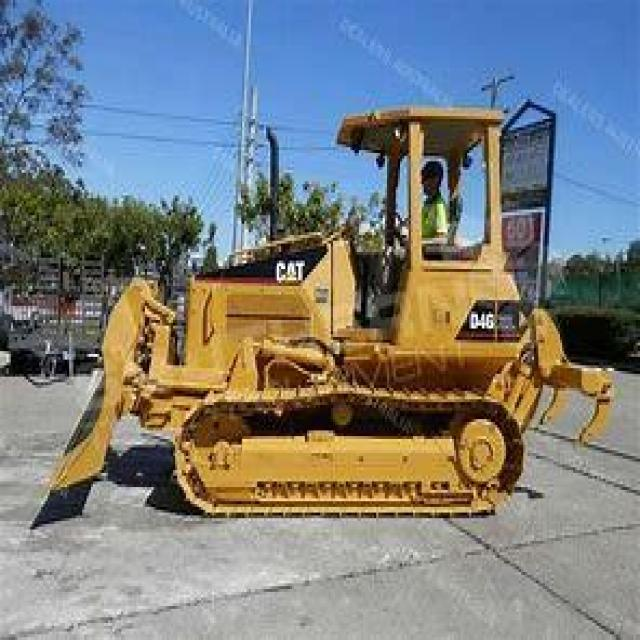Bulldozer: (52, 76, 623, 527)
